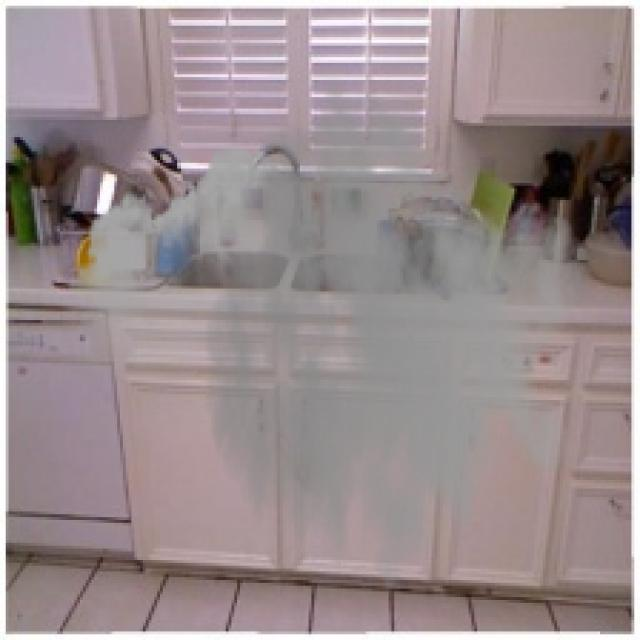Smoke: (60, 77, 586, 623)
